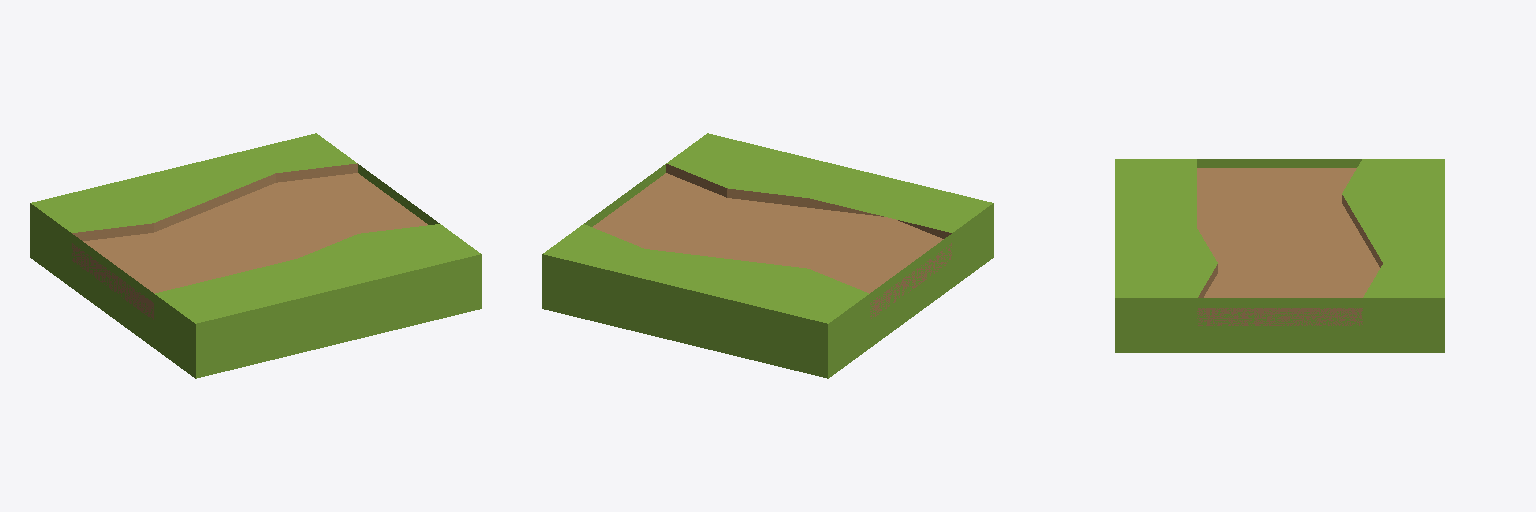
The model's file is RoadDirt.obj.
The picture shows the model from 3 angles: view 1: azimuth 30°, elevation 25°; view 2: azimuth 150°, elevation 25°; view 3: azimuth 270°, elevation 25°; orthographic projection.
Visible parts, largest first — view 1: roadTile_023.001; view 2: roadTile_023.001; view 3: roadTile_023.001.
Boxes of the visible parts, x1=… form: roadTile_023.001: x1=30, y1=133, x2=481, y2=378; roadTile_023.001: x1=542, y1=133, x2=993, y2=378; roadTile_023.001: x1=1115, y1=159, x2=1444, y2=352.
Size of the model in its own units: 3 by 0.55 by 3.